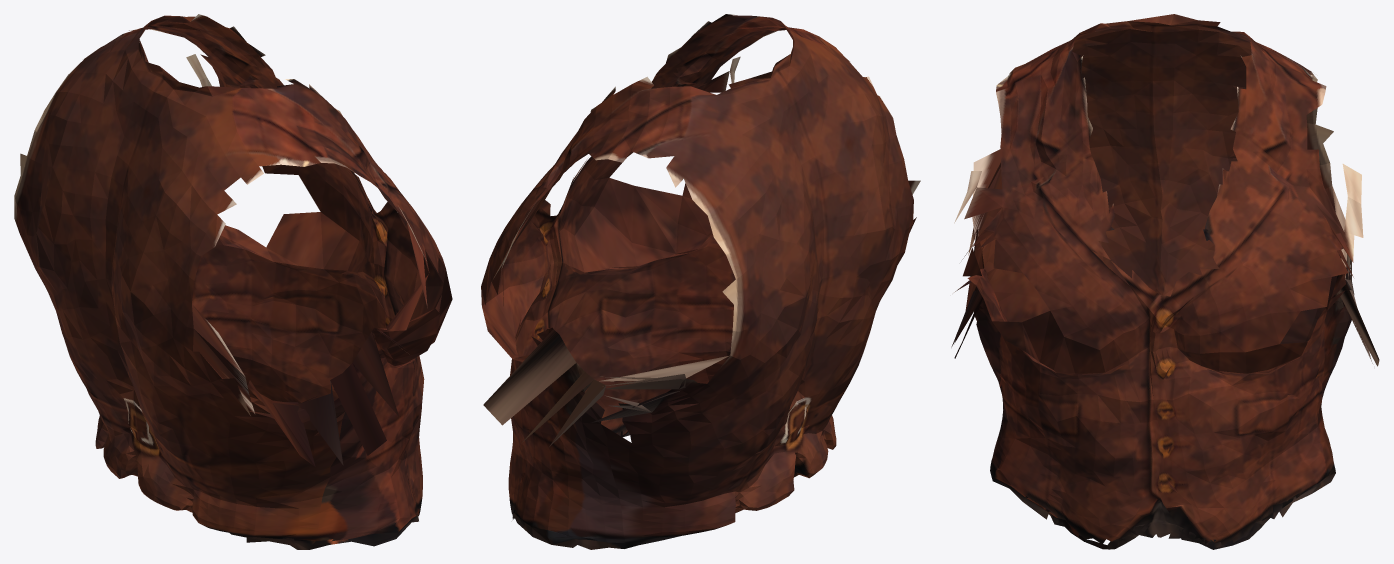
The model's file is bold_cowboy_under_vest.glb.
The picture shows the model from 3 angles, left to right: view 1: azimuth 30°, elevation 25°; view 2: azimuth 150°, elevation 25°; view 3: azimuth 270°, elevation 25°; orthographic projection. The views are drawn at different scales.
Parts seen in each view (by area): view 1: vest; view 2: vest; view 3: vest.
Boxes of the visible parts, left/top/right/bottom form: vest: left=14, top=14, right=452, bottom=549; vest: left=481, top=14, right=920, bottom=549; vest: left=951, top=14, right=1379, bottom=549.
Size of the model in its own units: 0.1902 by 0.2805 by 0.2522.
1 material, 1 textured.
